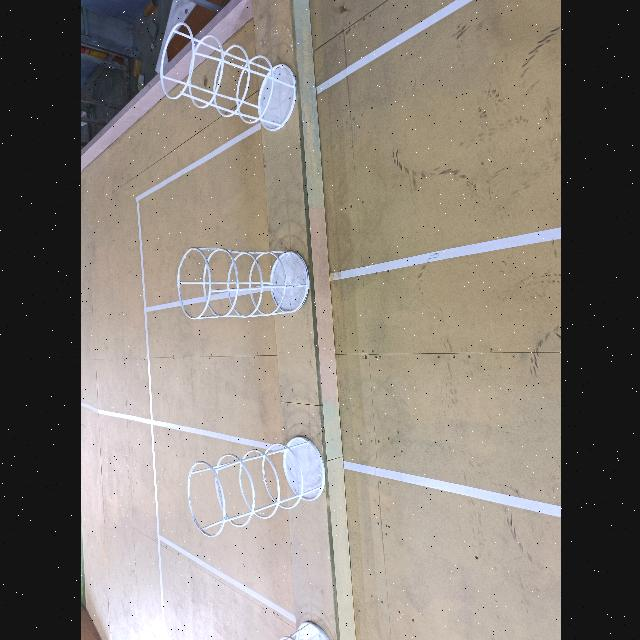S: (159, 22, 296, 131), (187, 435, 326, 537), (177, 247, 310, 320), (280, 620, 332, 640)
